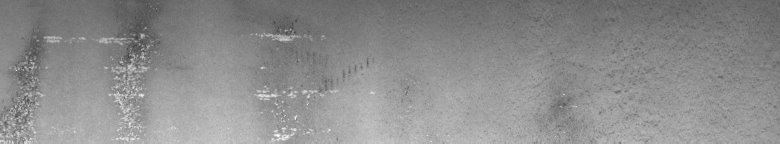hc: (4, 20, 162, 136)
